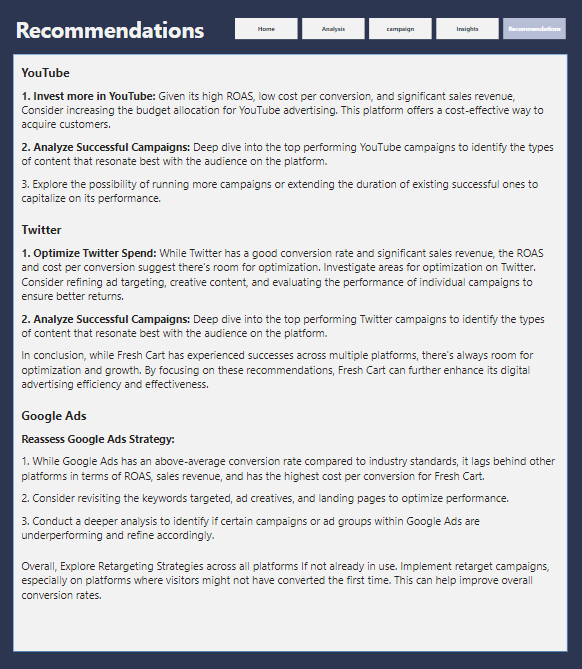

This screenshot's page, from the dashboard's own definition file:
{"tool":"powerbi","page":{"name":"Recommendations","canvas":[1300,1500],"ordinal":4},"visuals":[{"type":"textbox","box":[32,32,448,96],"z":0},{"type":"shape","box":[32,128,1232,1328],"z":1000},{"type":"pageNavigator","box":[528,48,736,48],"z":3000},{"type":"textbox","box":[48,144,1200,1296],"z":4000}]}

Visuals, with their boxes in screenshot pixels (x1, y1, x2, y2), scaled from the page's 1300x1500 canvas onto the 582x669 screenshot:
textbox: [14,14,215,57]
shape: [14,57,566,649]
pageNavigator: [236,21,566,43]
textbox: [21,64,559,642]
